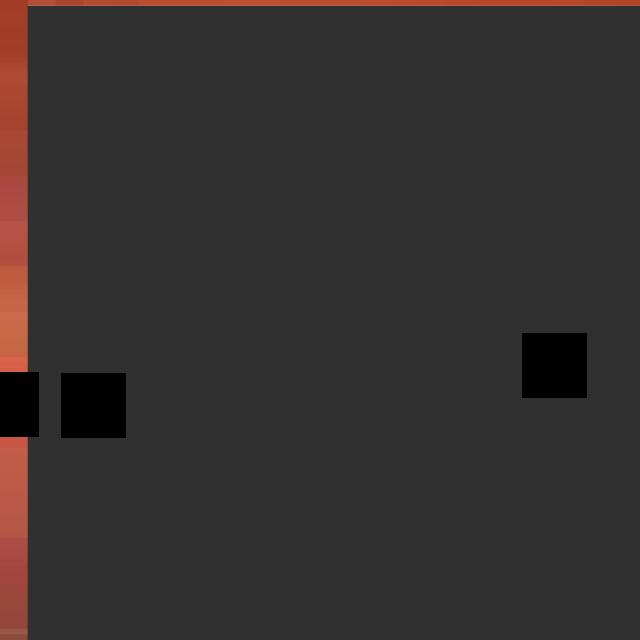fire: (28, 5, 640, 640)
